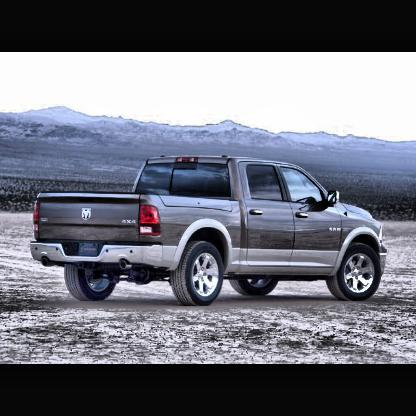Dodge Ram Pickup 3500 Quad Cab 2009: (30, 155, 388, 309)
